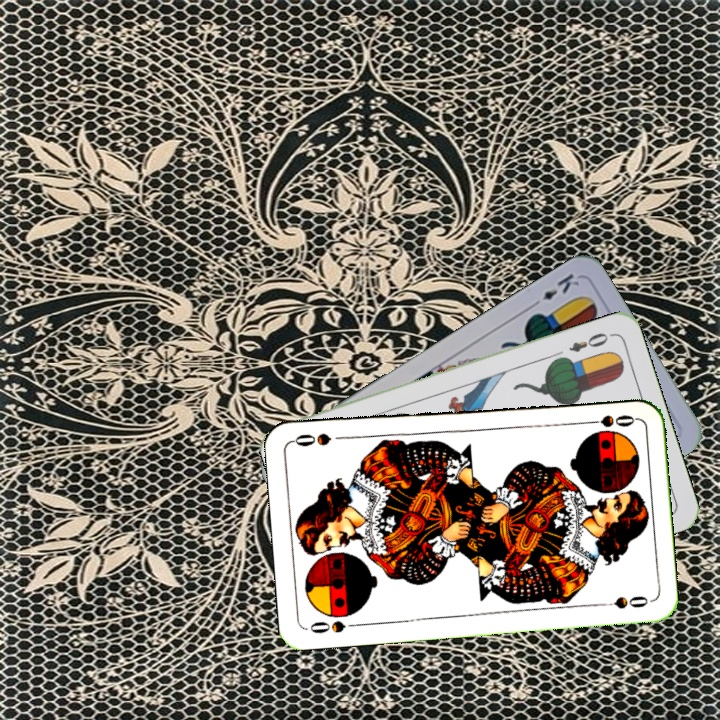EK: (527, 269, 582, 311)
EO: (565, 329, 611, 355)
SO: (304, 616, 363, 636), (579, 411, 638, 430)
